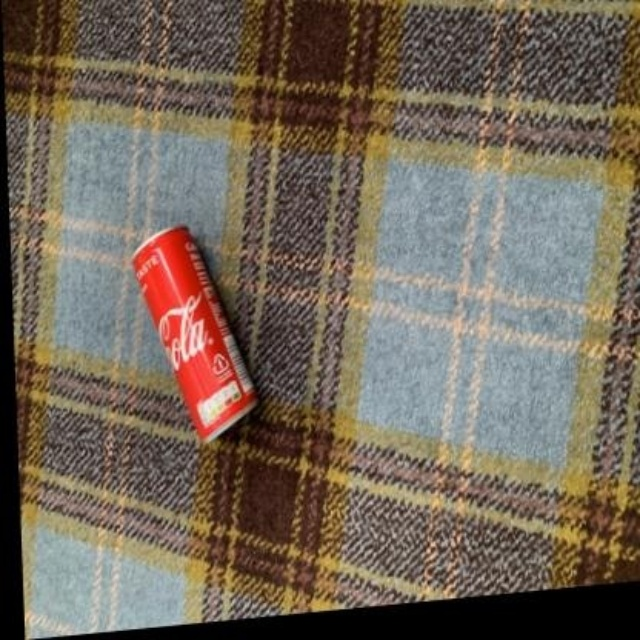trash: (132, 226, 255, 440)
